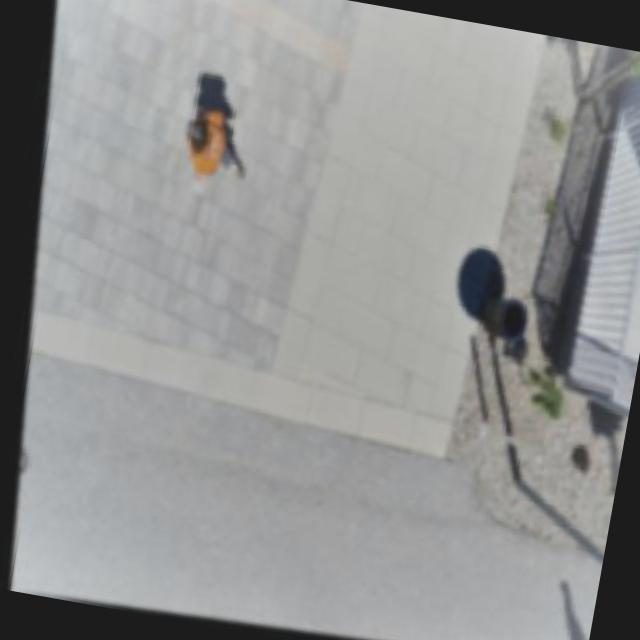Person: (172, 97, 258, 190)
